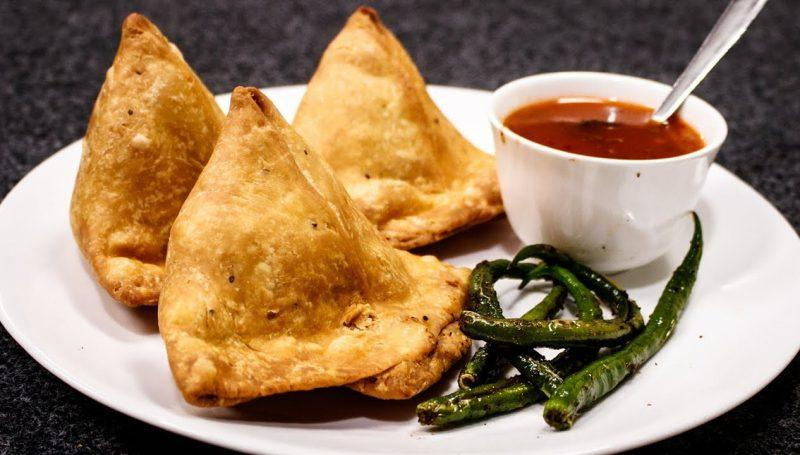samosa: (158, 88, 470, 406), (292, 8, 503, 248), (70, 12, 225, 306)
